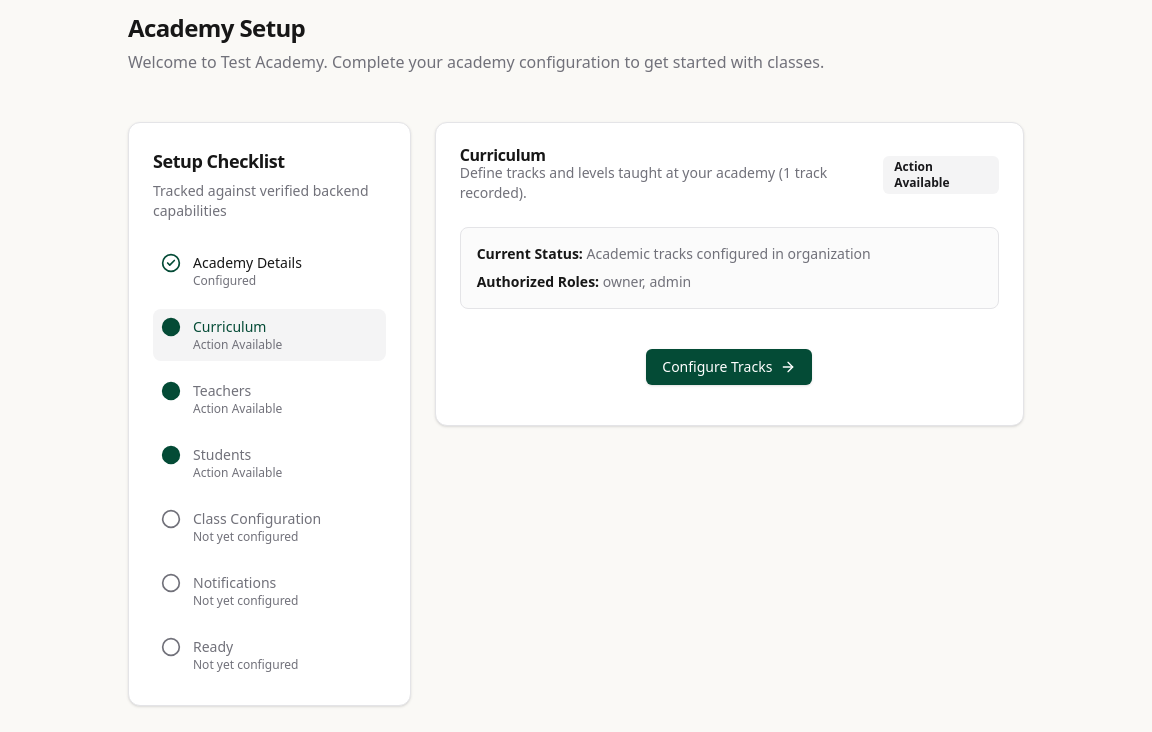
it: OnboardingWizard (Explicit Steps) › does not falsely declare academy ready based on counts
Check: the text "Ready" is shown, box top-left (193, 637), bottom-right (233, 656)
# Click into Ready step
Click the button "Ready Not yet configured" at (269, 655), box top-left (153, 629), bottom-right (386, 681)
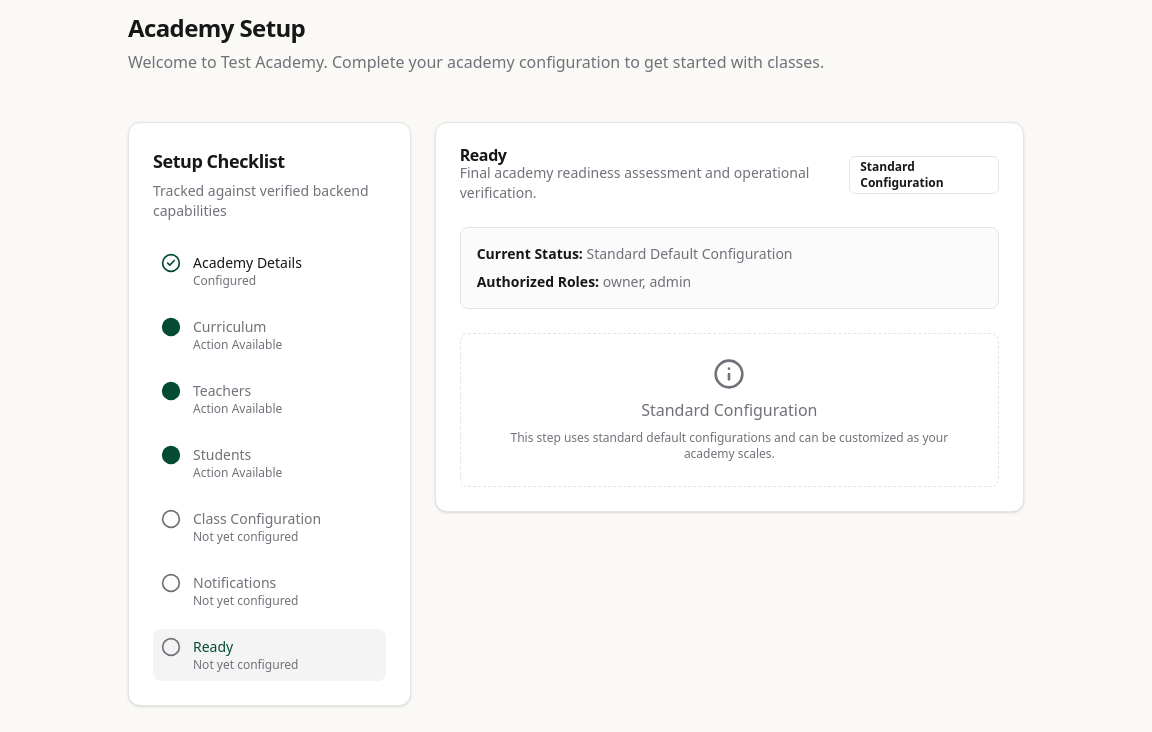
Check: the text "Standard Default Configuration" is shown, box top-left (586, 244), bottom-right (792, 263)
Check: the 1st text "Standard Configuration" is shown, box top-left (849, 156), bottom-right (999, 194)
